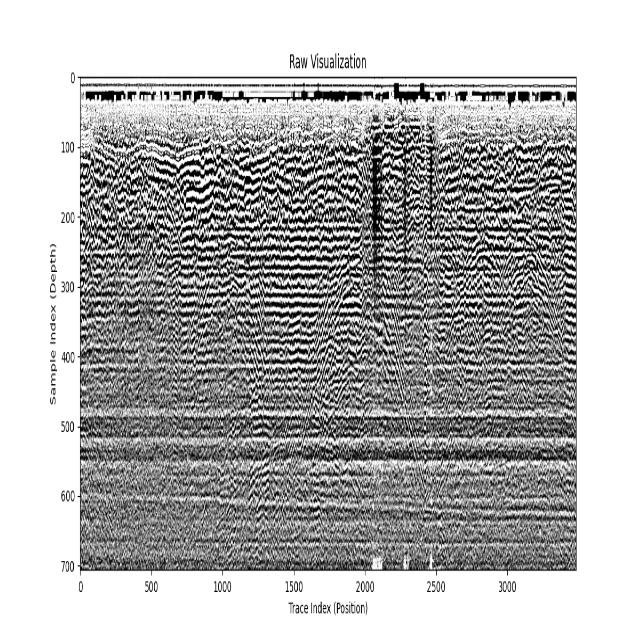anomaly: (297, 255, 421, 472), (444, 224, 568, 358)
